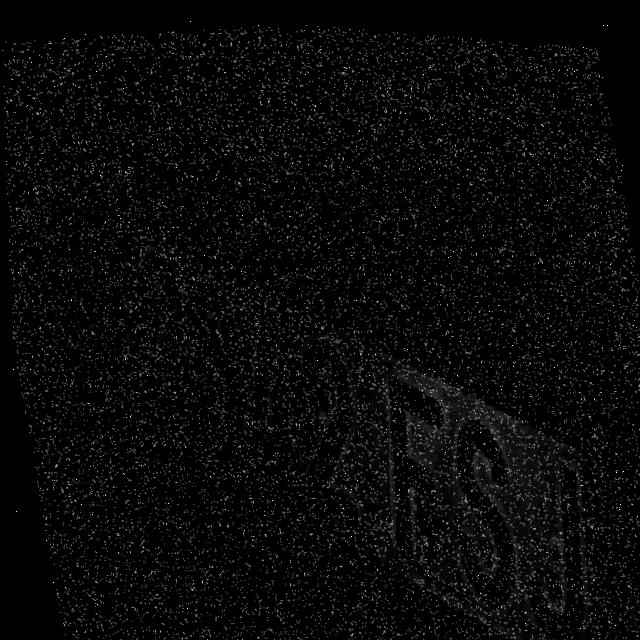LicensePlate: (18, 113, 640, 640)
